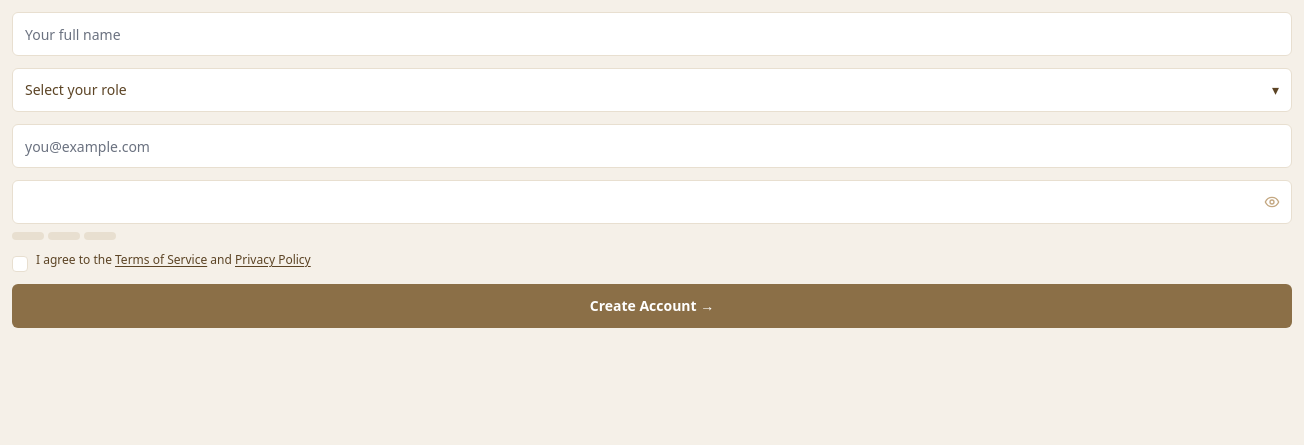
SignUpForm › submit without name shows validation error
Step 1. Click the button "Create Account →" → coordinates (652, 306), box [12, 284, 1292, 328]
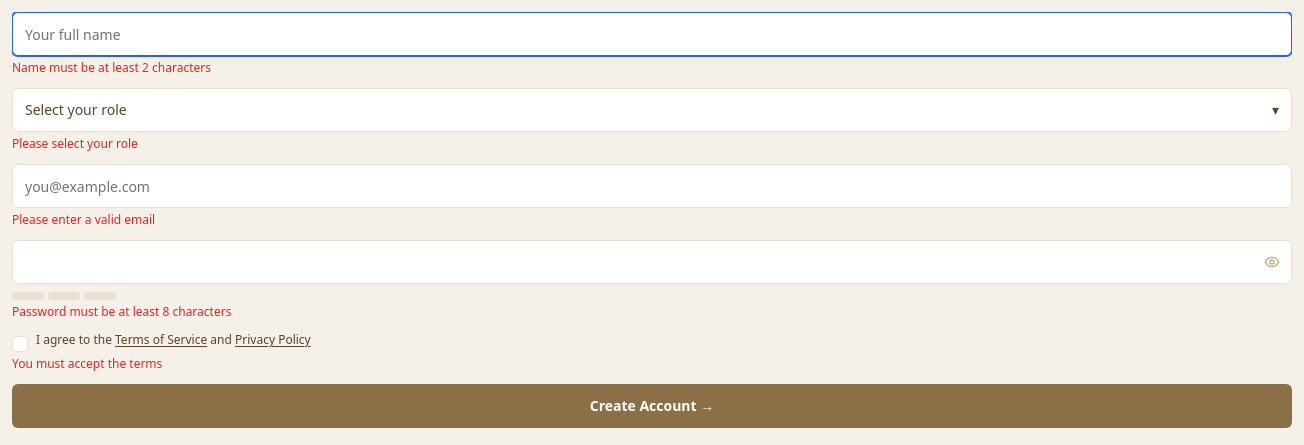
Expected: the text "Name must be at least 2 characters" is shown, [12, 59, 211, 76]
